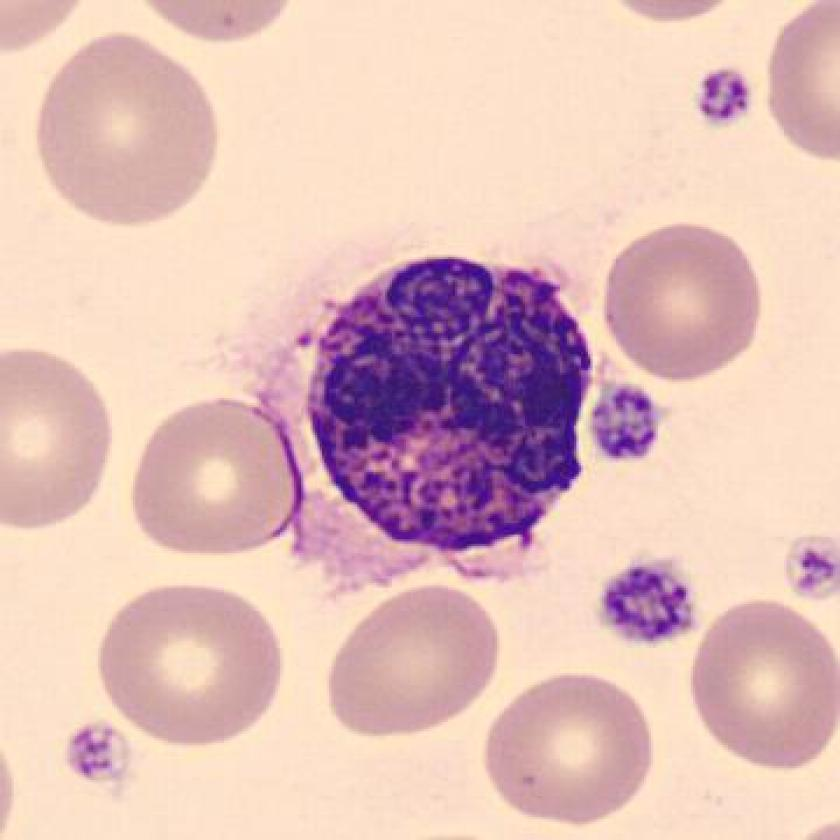basophil: (300, 244, 601, 566)
